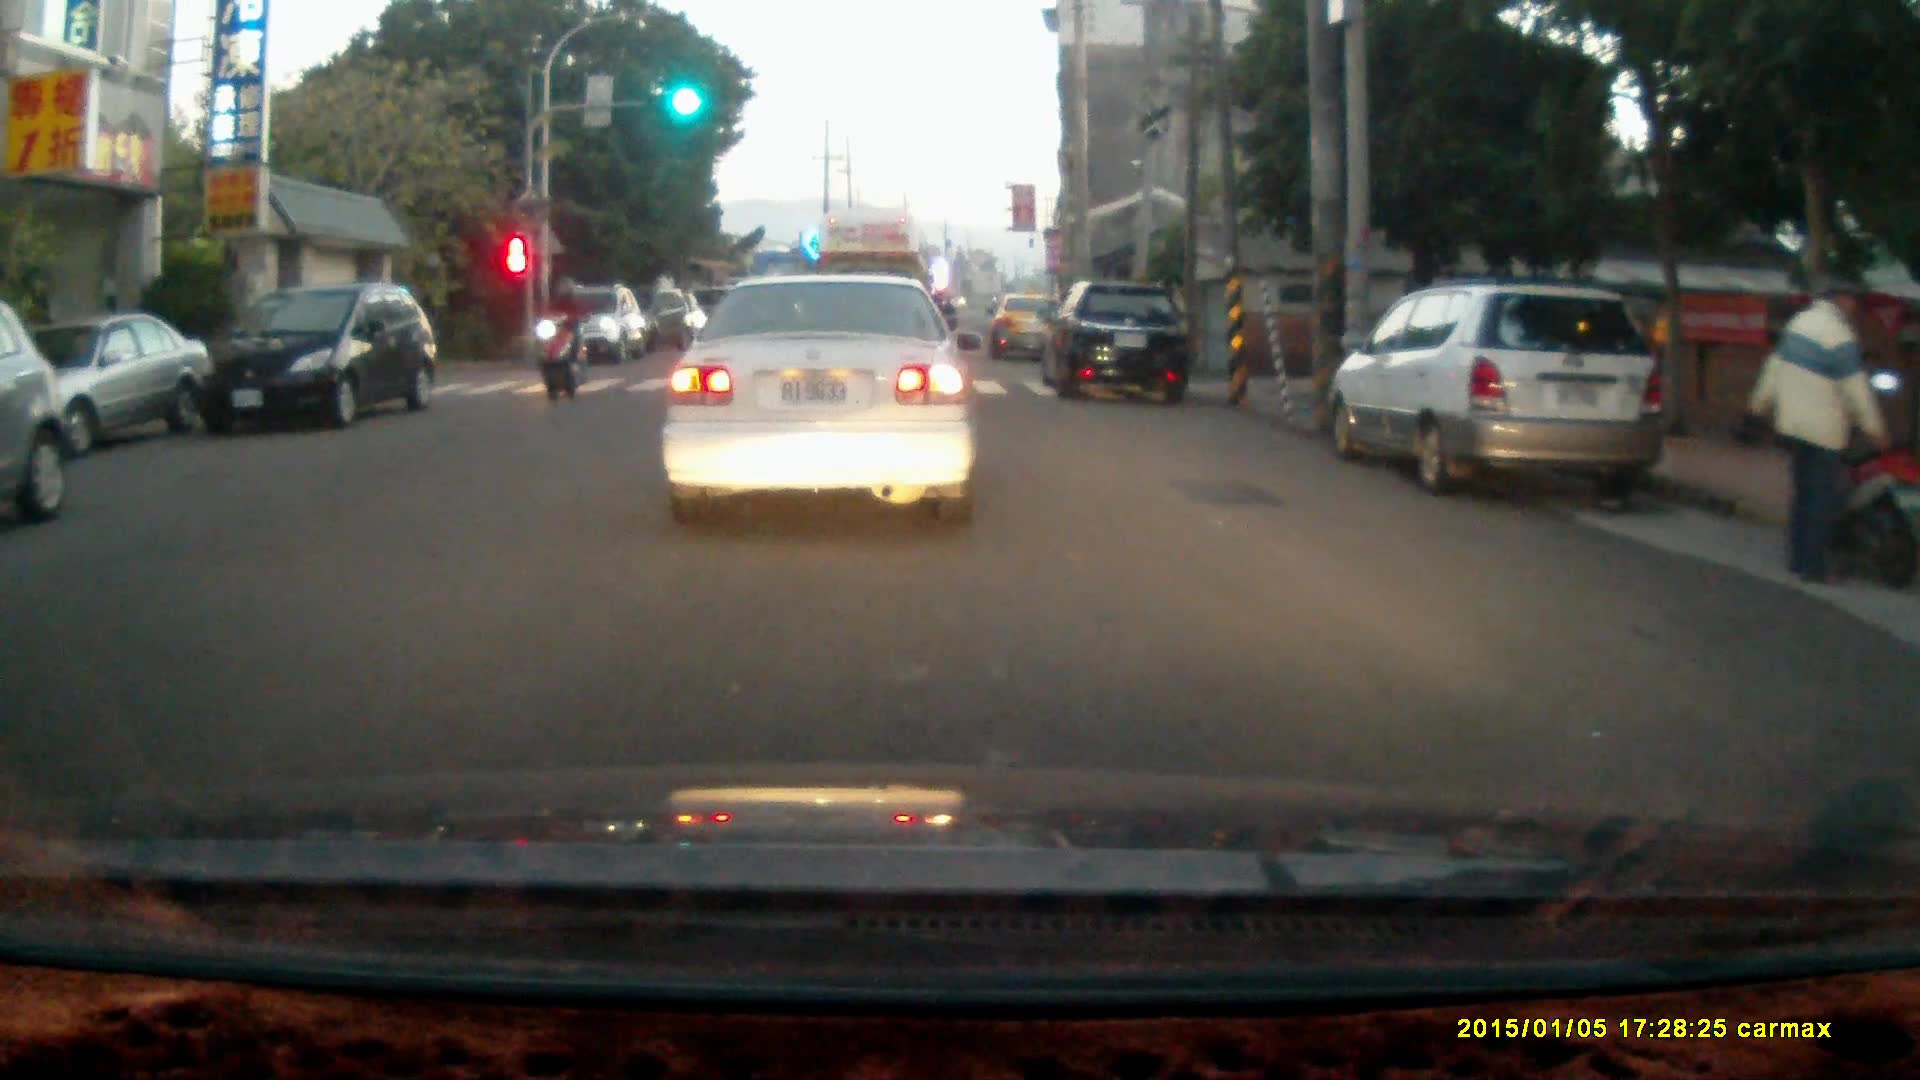pedestrian: (1752, 270, 1883, 586)
rider: (535, 271, 583, 403)
vehicle: (663, 271, 984, 524), (1334, 282, 1662, 494), (192, 284, 434, 439), (0, 311, 211, 452), (1038, 275, 1193, 398), (818, 205, 933, 365), (1, 298, 76, 527), (536, 284, 647, 363), (986, 294, 1073, 368)
